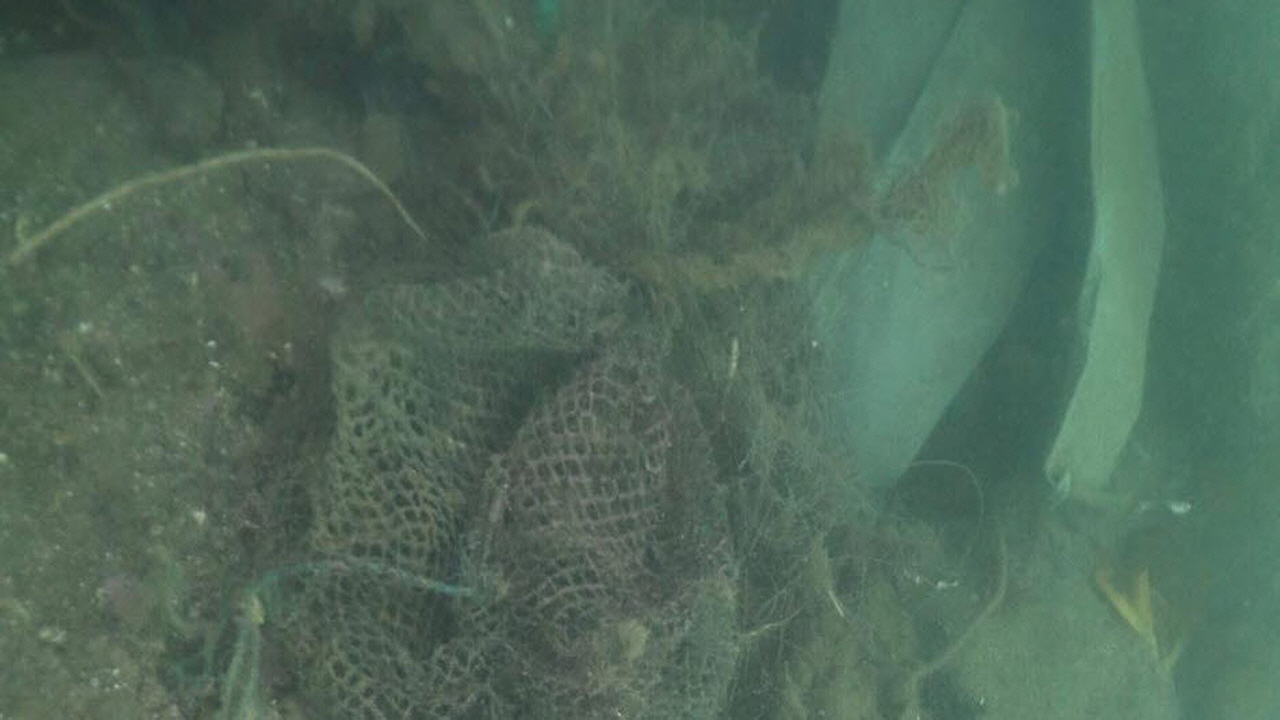fish net: (275, 228, 738, 720)
